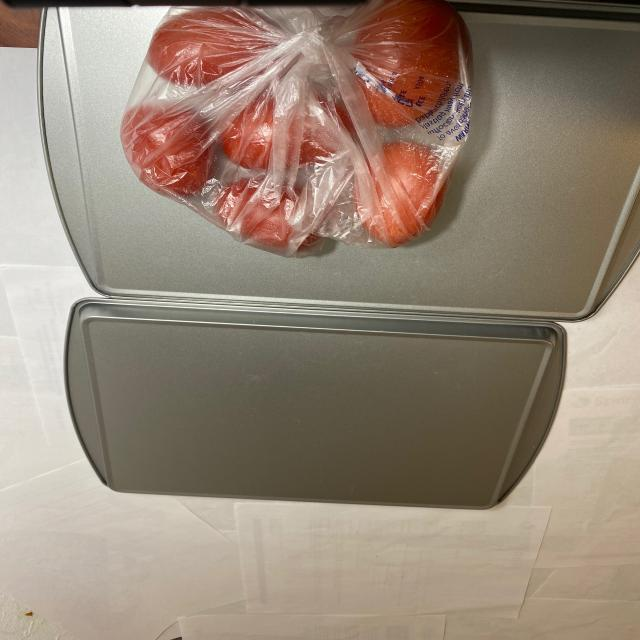tomato: (115, 3, 469, 248)
